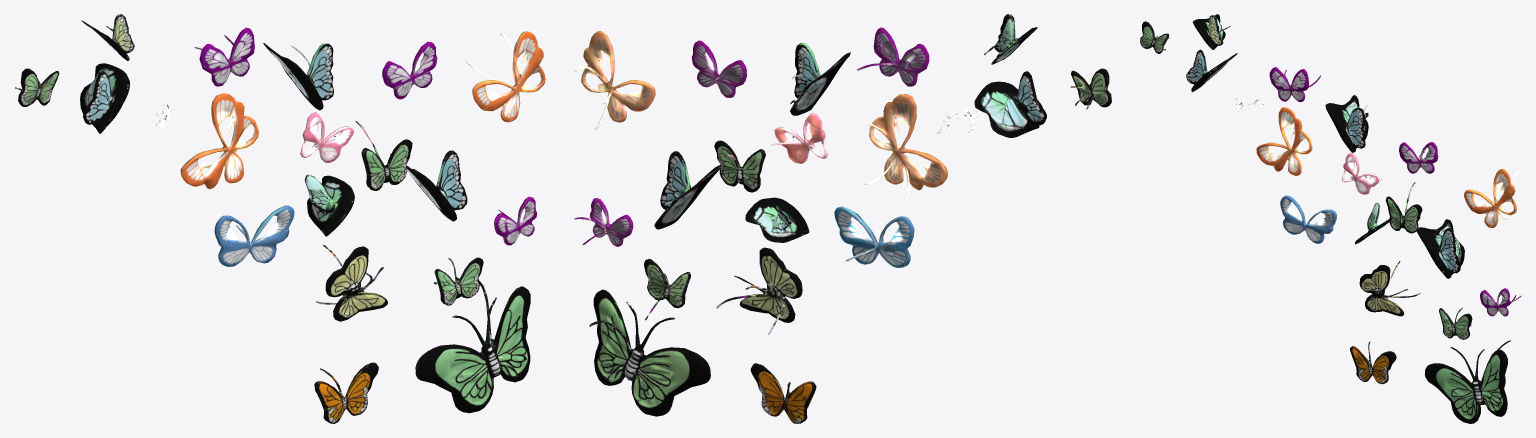
Rendered from Meshy_AI_Rainbow_Butterflies_1017062027_texture.fbx.
The picture shows the model from 3 angles, left to right: view 1: azimuth 30°, elevation 25°; view 2: azimuth 150°, elevation 25°; view 3: azimuth 330°, elevation 25°; orthographic projection. The views are drawn at different scales.
Visible parts, largest first — view 1: Mesh1.0; view 2: Mesh1.0; view 3: Mesh1.0.
Boxes of the visible parts, left/top/right/bottom form: Mesh1.0: left=15, top=14, right=545, bottom=423; Mesh1.0: left=574, top=14, right=1111, bottom=423; Mesh1.0: left=1140, top=14, right=1521, bottom=423.
Size of the model in its own units: 190 by 167 by 23.53.
1 material, 1 textured.
